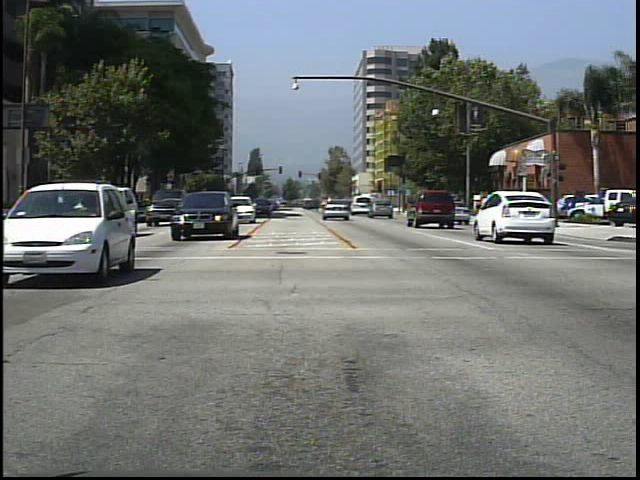person: (439, 192, 457, 225), (476, 190, 494, 220)
